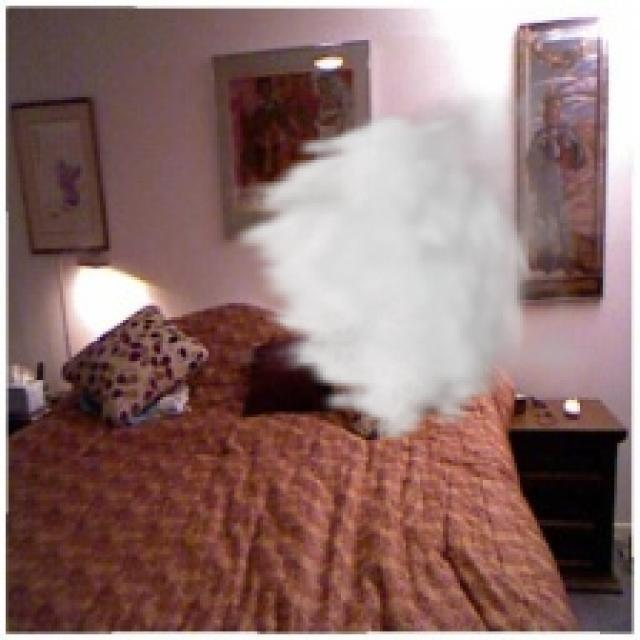Smoke: (225, 40, 606, 446)
